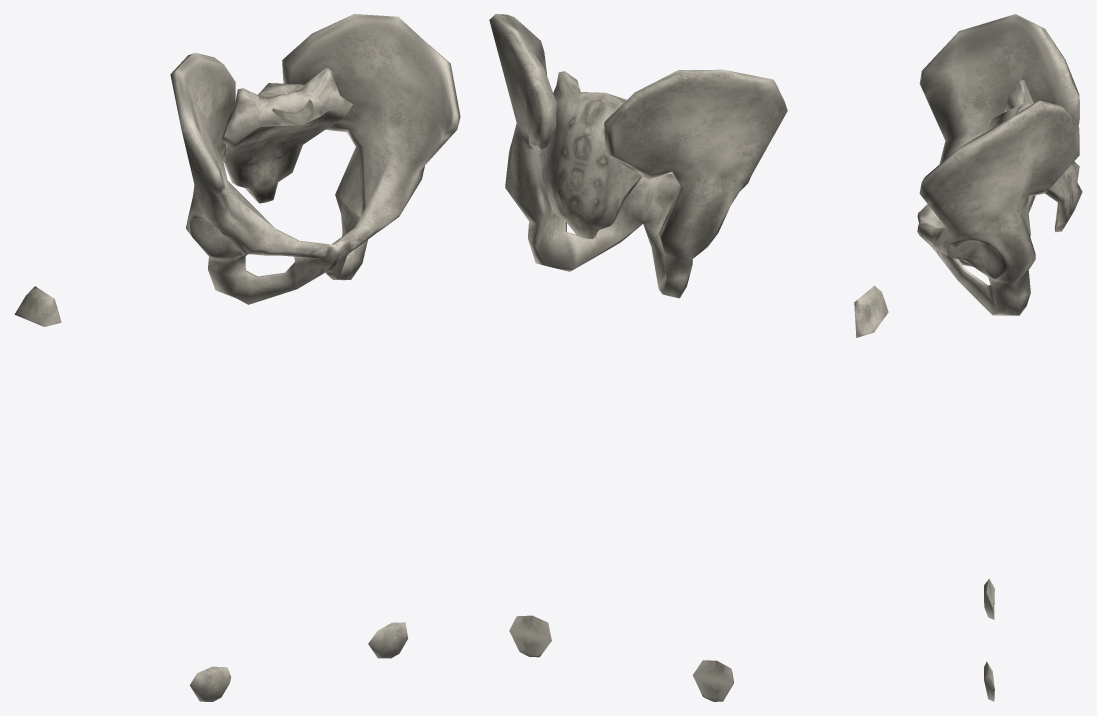
Rendered from skeleton.obj.
3 views of the same model, side by side, from view 1: azimuth 30°, elevation 25°; view 2: azimuth 150°, elevation 25°; view 3: azimuth 270°, elevation 25° (orthographic). The views are drawn at different scales.
Parts seen in each view (by area): view 1: skeleton; view 2: skeleton; view 3: skeleton.
Boxes of the visible parts, x1=… form: skeleton: x1=14, y1=14, x2=460, y2=701; skeleton: x1=489, y1=14, x2=888, y2=701; skeleton: x1=917, y1=14, x2=1082, y2=701.
Bounding box in the file's own units: 0.4591 × 0.6908 × 0.1739.
